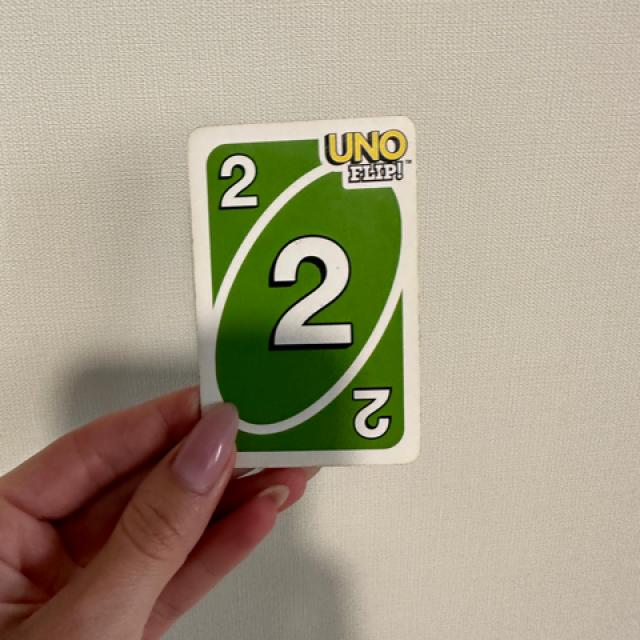lgreen-2: (198, 136, 282, 228)
